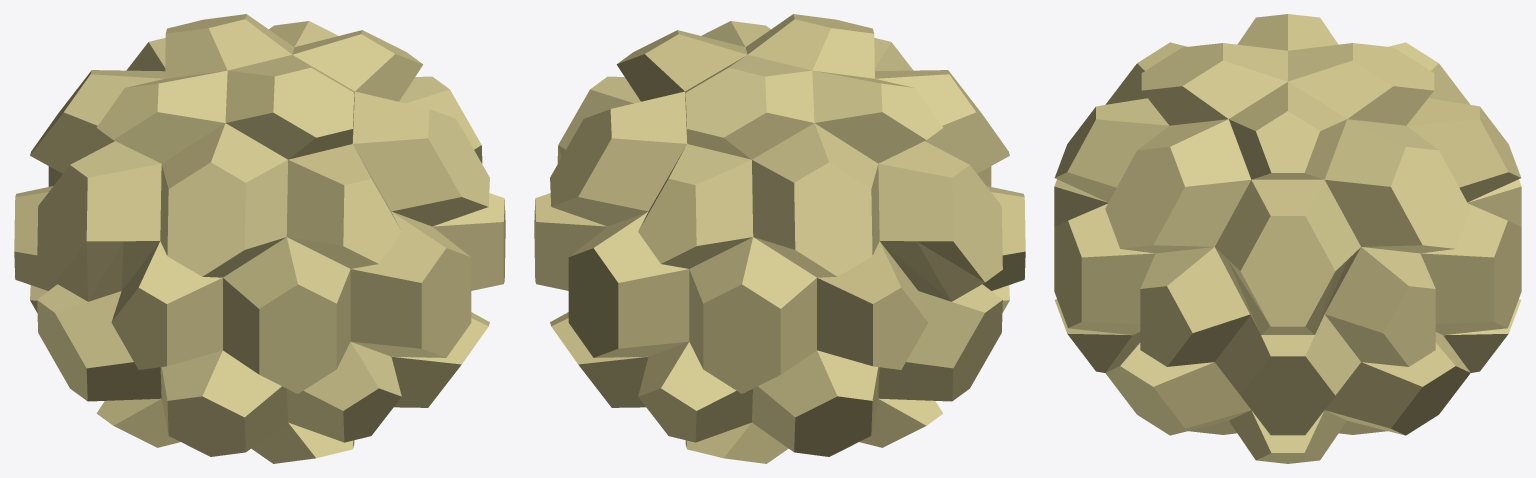
The model's file is greasy plant_1.fbx.
3 views of the same model, side by side, from view 1: azimuth 30°, elevation 25°; view 2: azimuth 150°, elevation 25°; view 3: azimuth 270°, elevation 25° (orthographic). The views are drawn at different scales.
Parts seen in each view (by area): view 1: greasy_plant_1; view 2: greasy_plant_1; view 3: greasy_plant_1.
Boxes of the visible parts, <box> form: greasy_plant_1: <box>14,14,505,463</box>; greasy_plant_1: <box>534,14,1025,463</box>; greasy_plant_1: <box>1054,14,1521,463</box>.
Bounding box in the file's own units: 65.61 × 55.98 × 63.3.
